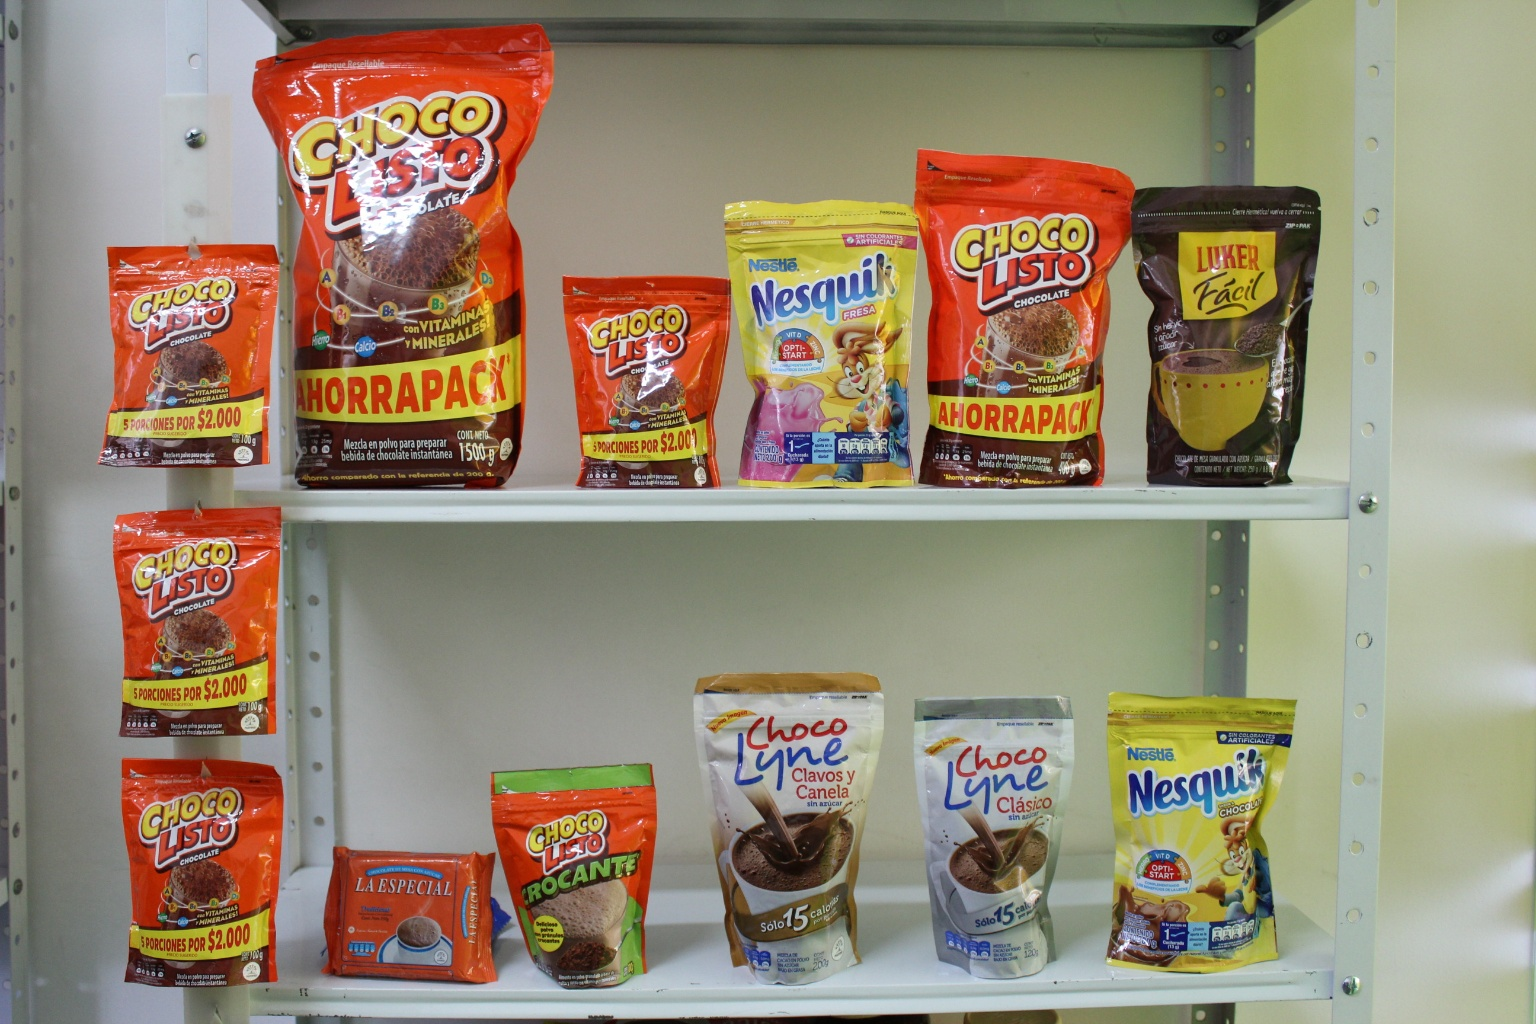COL0170102DYP10000: (493, 747, 665, 987)
COL0170103DYP1,500: (261, 18, 565, 485)
COL0170103DYP10000: (555, 261, 735, 487)
COL0170103DYP40000: (915, 139, 1129, 498)
COL0170303DYP20000: (1105, 694, 1305, 975)
COL0170305DYP20000: (717, 190, 925, 496)
